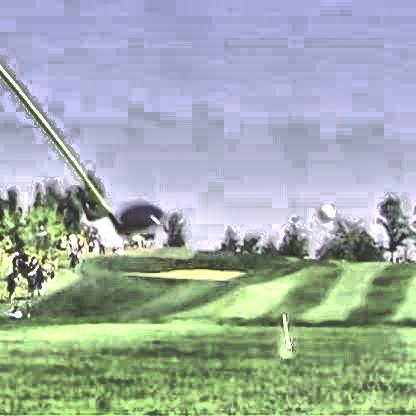golfball: (315, 200, 332, 220)
